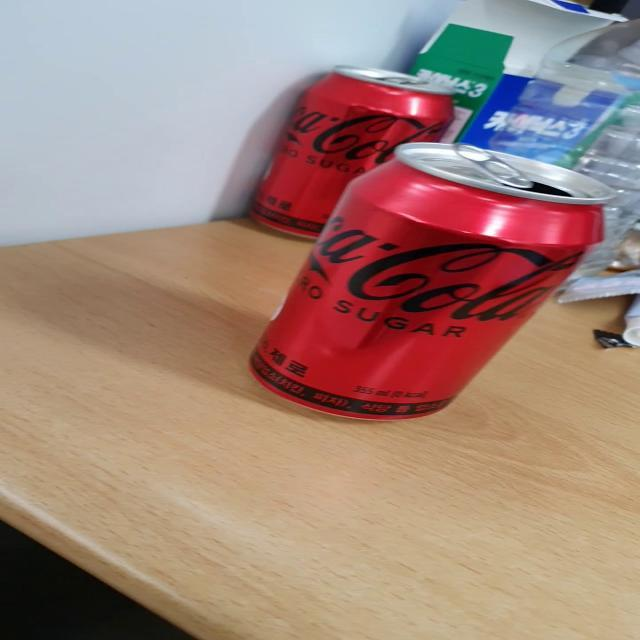coca-cola: (225, 134, 630, 436), (244, 60, 448, 228)
